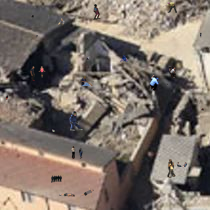Human: (59, 184, 94, 198), (25, 66, 46, 82), (69, 111, 84, 131), (52, 18, 75, 31), (168, 66, 184, 78), (167, 159, 176, 178), (149, 75, 159, 91), (71, 146, 83, 159), (163, 2, 177, 13), (81, 76, 94, 86), (93, 4, 101, 20), (51, 175, 62, 183), (120, 55, 129, 62), (177, 162, 187, 167), (5, 95, 9, 100), (164, 83, 168, 86), (200, 32, 202, 38), (52, 129, 55, 132), (201, 108, 204, 111), (35, 35, 38, 38), (86, 57, 89, 60), (31, 15, 34, 18), (100, 106, 103, 109)
